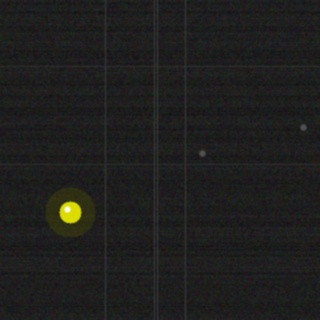yellow_warning: (57, 199, 83, 225)
